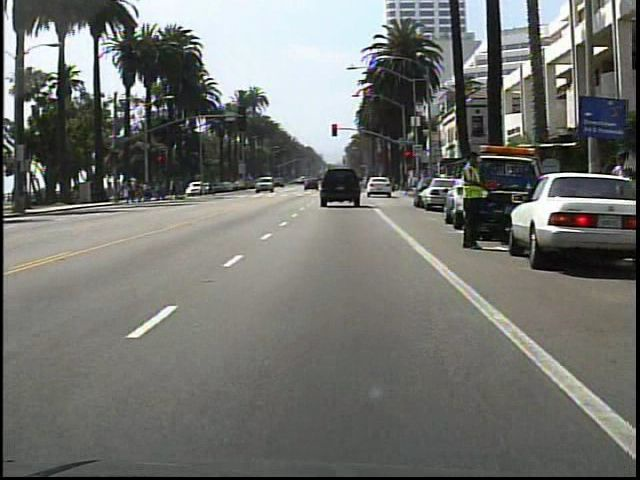person: (600, 146, 634, 247), (458, 146, 487, 257), (203, 173, 222, 201)
